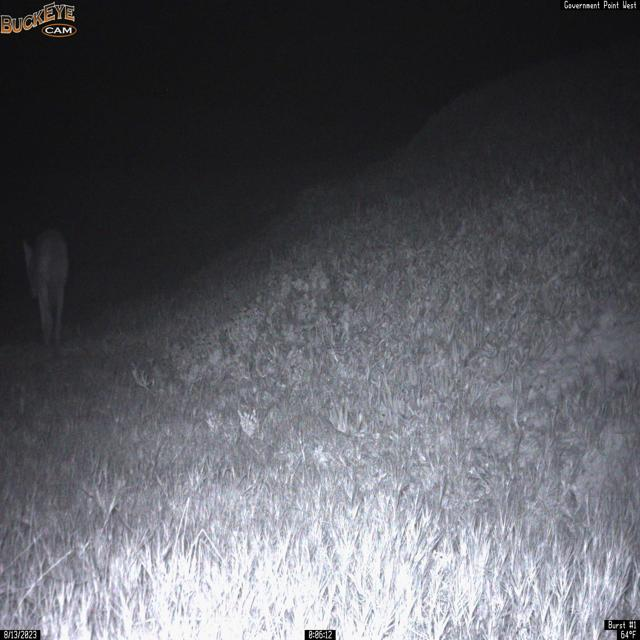coyote: (22, 227, 70, 356)
